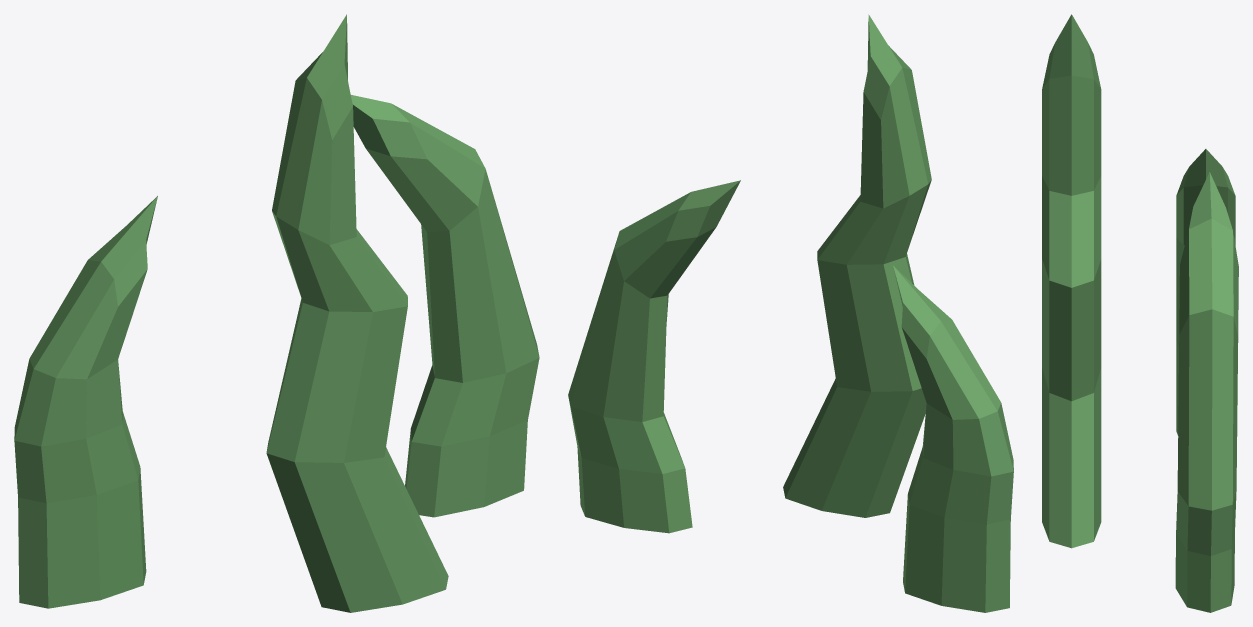
Rendered from grass2.glb.
3 renders of one model, left to right at view 1: azimuth 30°, elevation 25°; view 2: azimuth 150°, elevation 25°; view 3: azimuth 270°, elevation 25°, orthographic. The views are drawn at different scales.
Parts seen in each view (by area): view 1: Grass2; view 2: Grass2; view 3: Grass2.
Part boxes in pixels (x1,y1,x2,y2): Grass2: (14,14,539,612); Grass2: (568,14,1013,612); Grass2: (1042,14,1238,612).
Size of the model in its own units: 0.4073 by 0.4341 by 0.1572.
